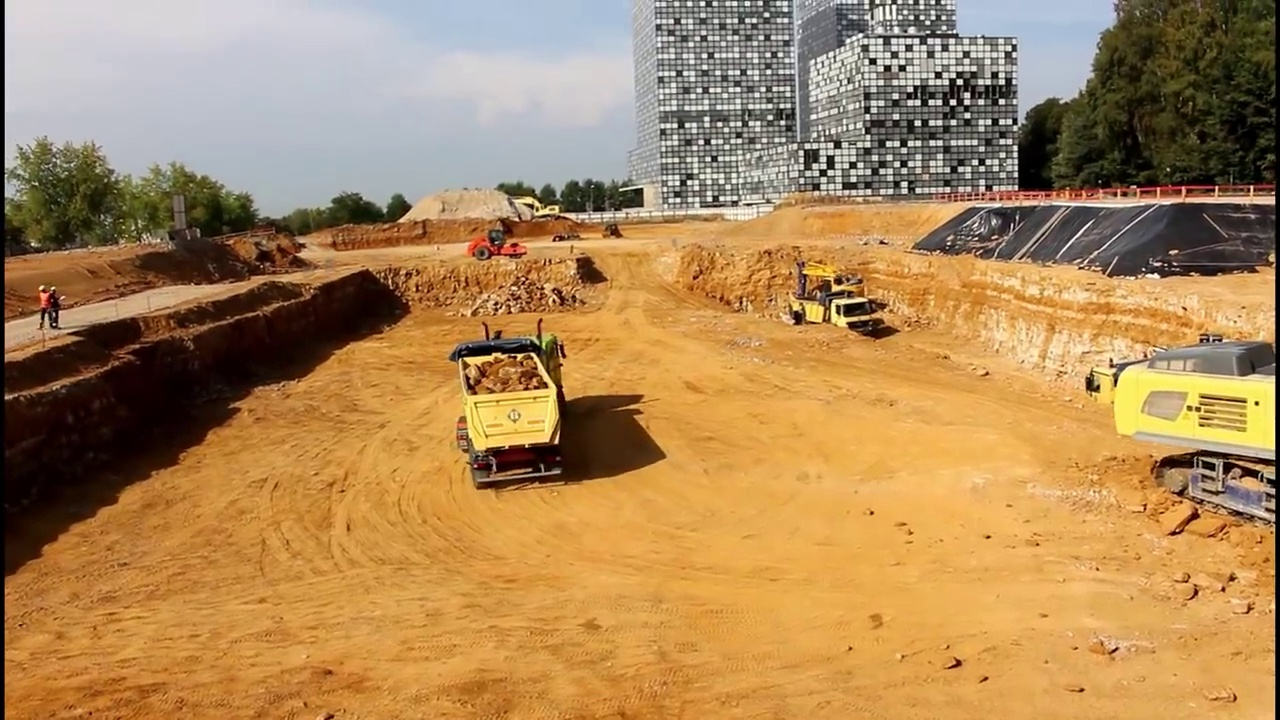compactor: (467, 226, 527, 264)
excavator: (1115, 327, 1280, 534), (789, 252, 871, 321), (502, 192, 565, 224)
truck: (447, 314, 574, 495), (1084, 355, 1271, 458), (786, 290, 877, 345)
worker: (50, 281, 67, 337), (37, 283, 54, 334)
